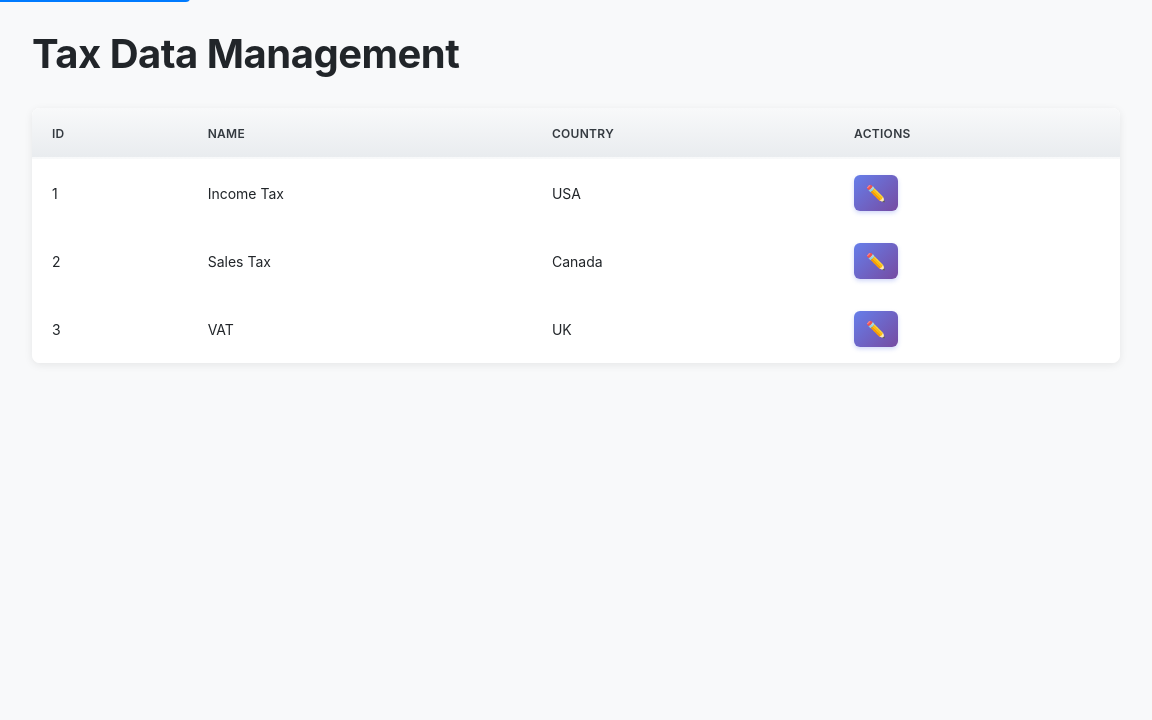
Scenario: TaxTablePage Integration Tests › error recovery flow: handles save error and keeps modal open
Expected: the text "Income Tax" is shown, [188,159,532,227]
Note: Click edit button
Click the button named "edit" at (876, 193), box [854,175,898,211]
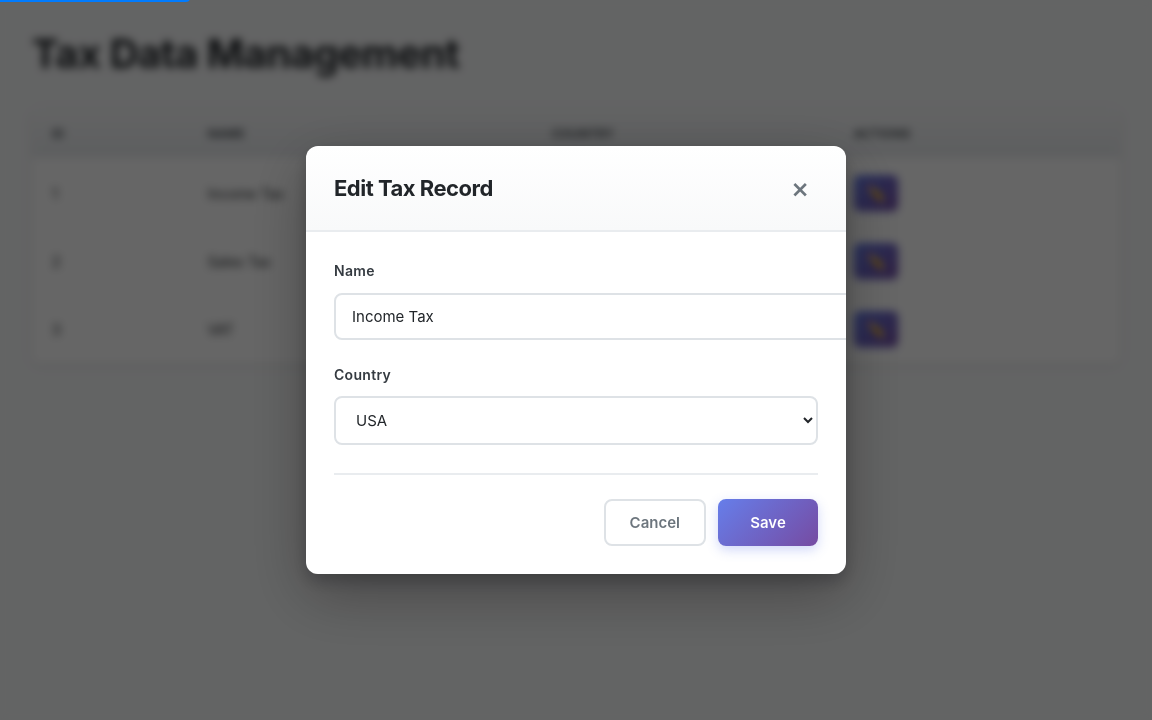
Now the dialog is shown
Note: Edit the name
Clear the field named "tax name" at (594, 316), box [334,292,854,340]
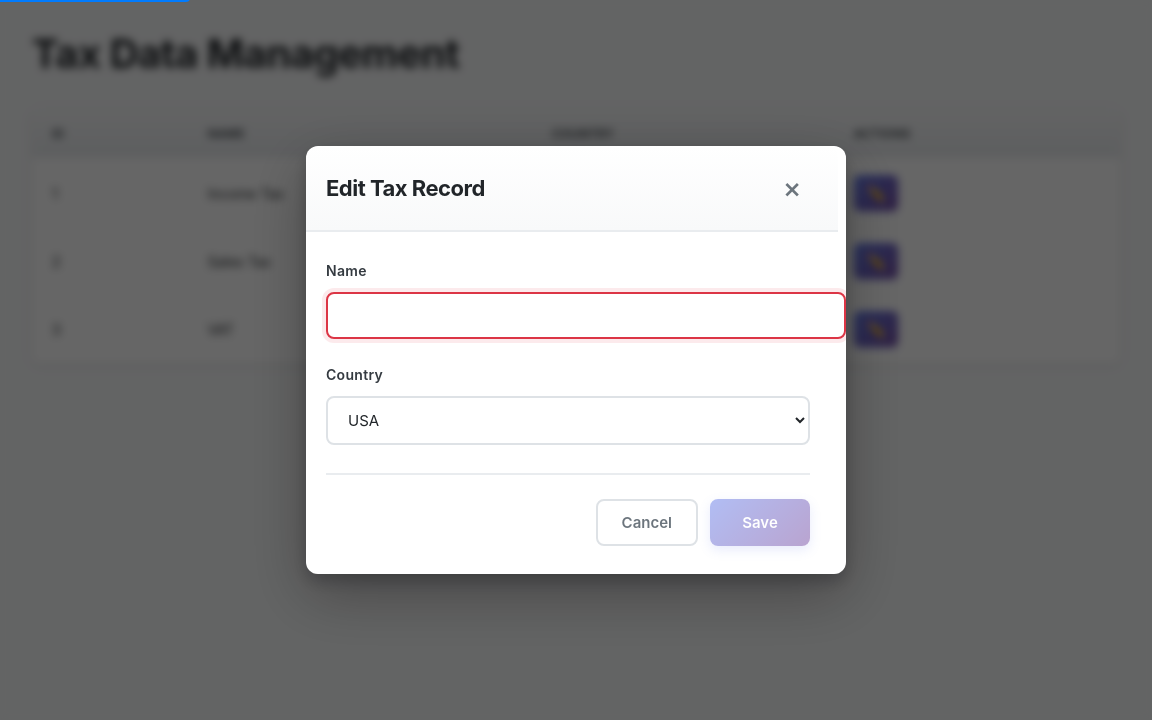
Type "Updated Tax" into the field named "tax name" at (586, 315), box [326,292,846,338]
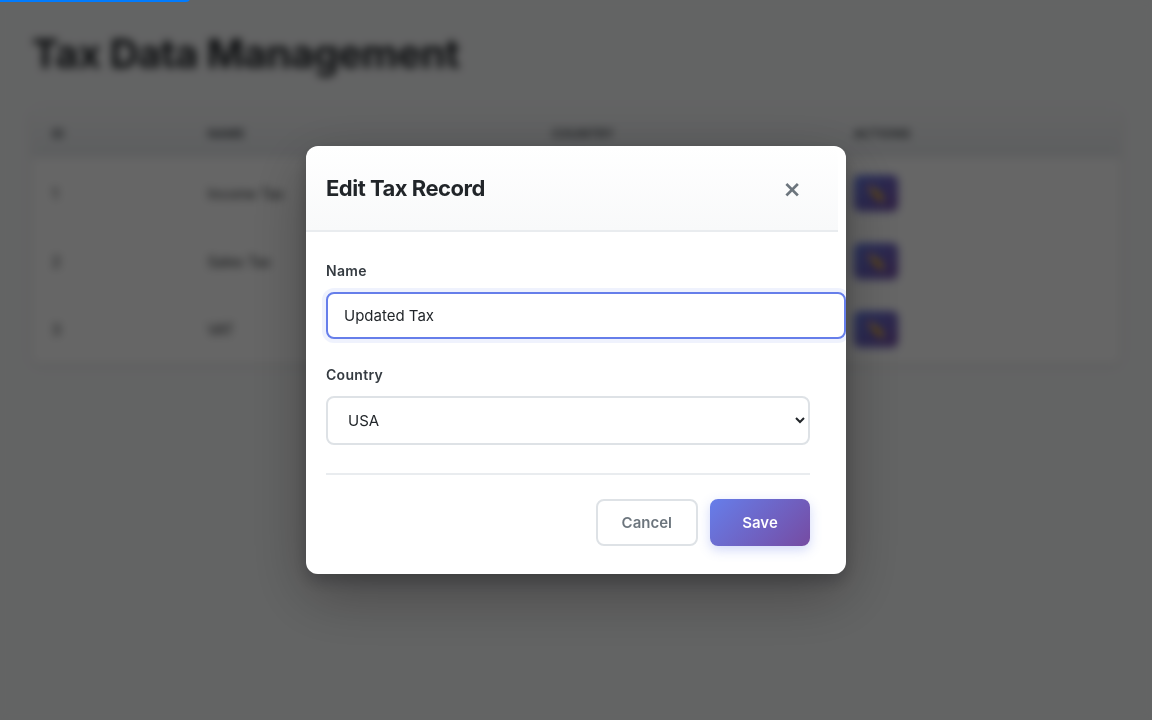
Note: Click save button
Click the button "Save" at (760, 522), box [710,499,810,546]
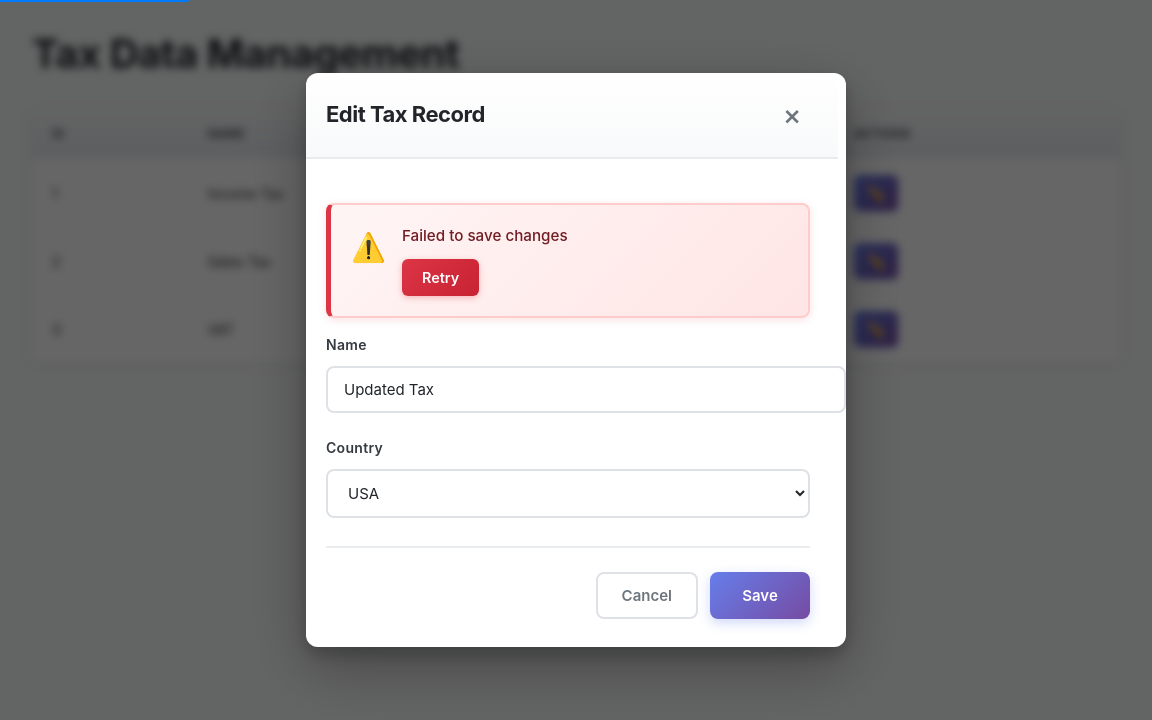
Now the dialog is shown
Now the text "Failed to save changes" is shown, box [402,226,568,245]
Note: Click save again (retry)
Click the button "Save" at (760, 596), box [710,572,810,619]
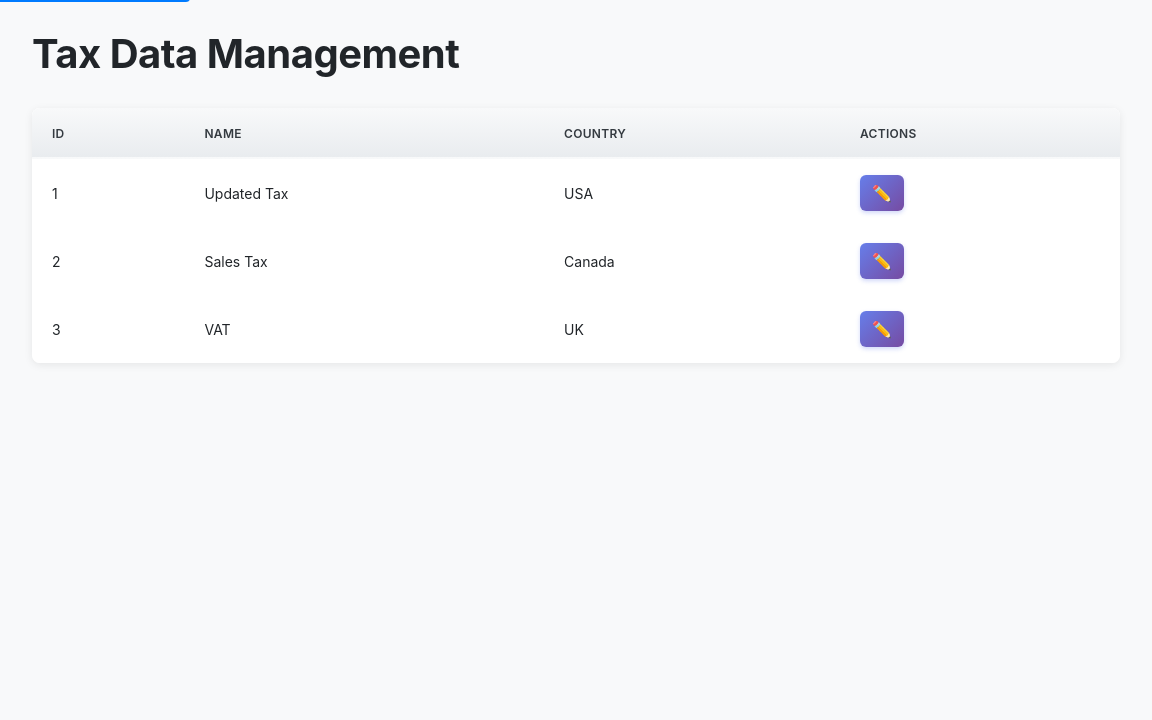
Now the dialog is gone
Now the text "Updated Tax" is shown, box [184,159,544,227]
